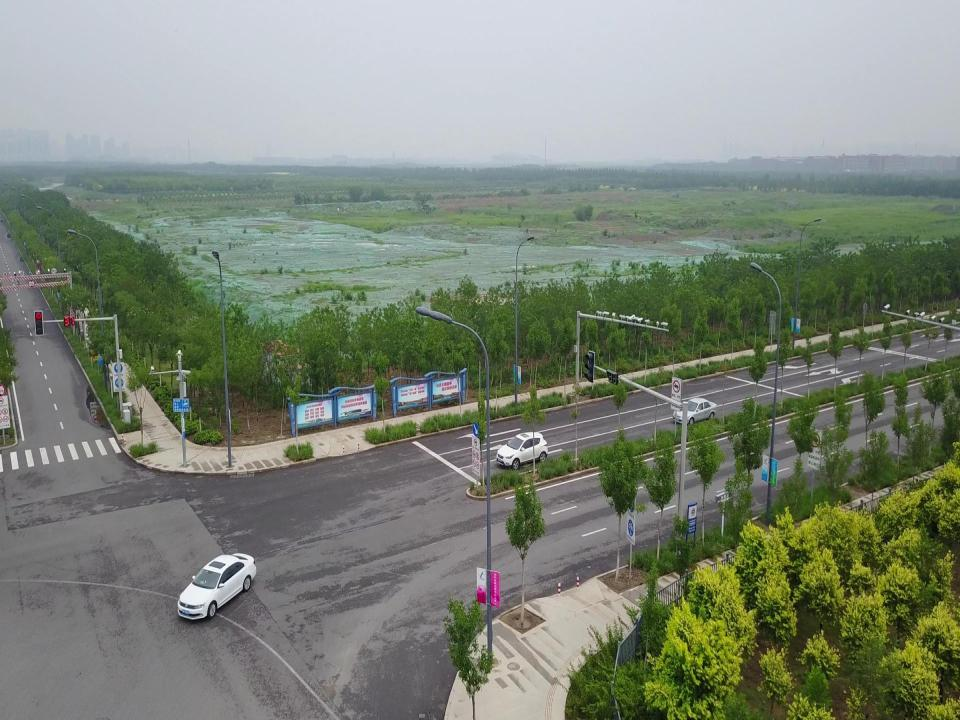car: (176, 550, 258, 623), (496, 430, 548, 470), (672, 398, 718, 427)
